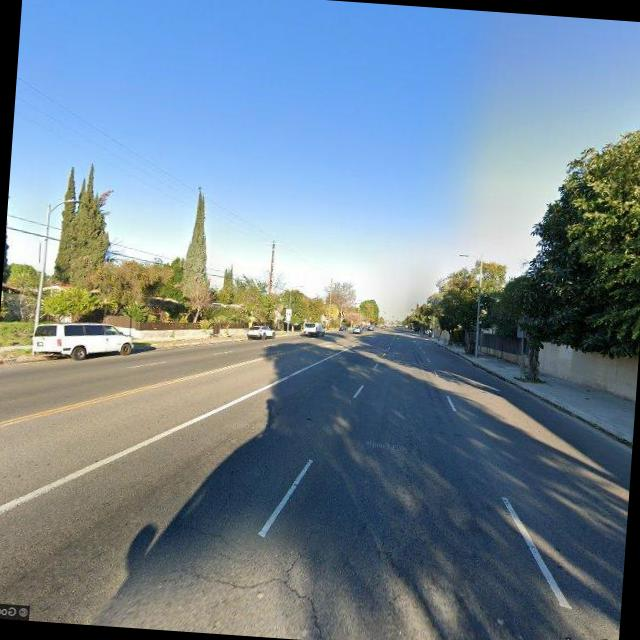crack: (192, 525, 353, 640)
